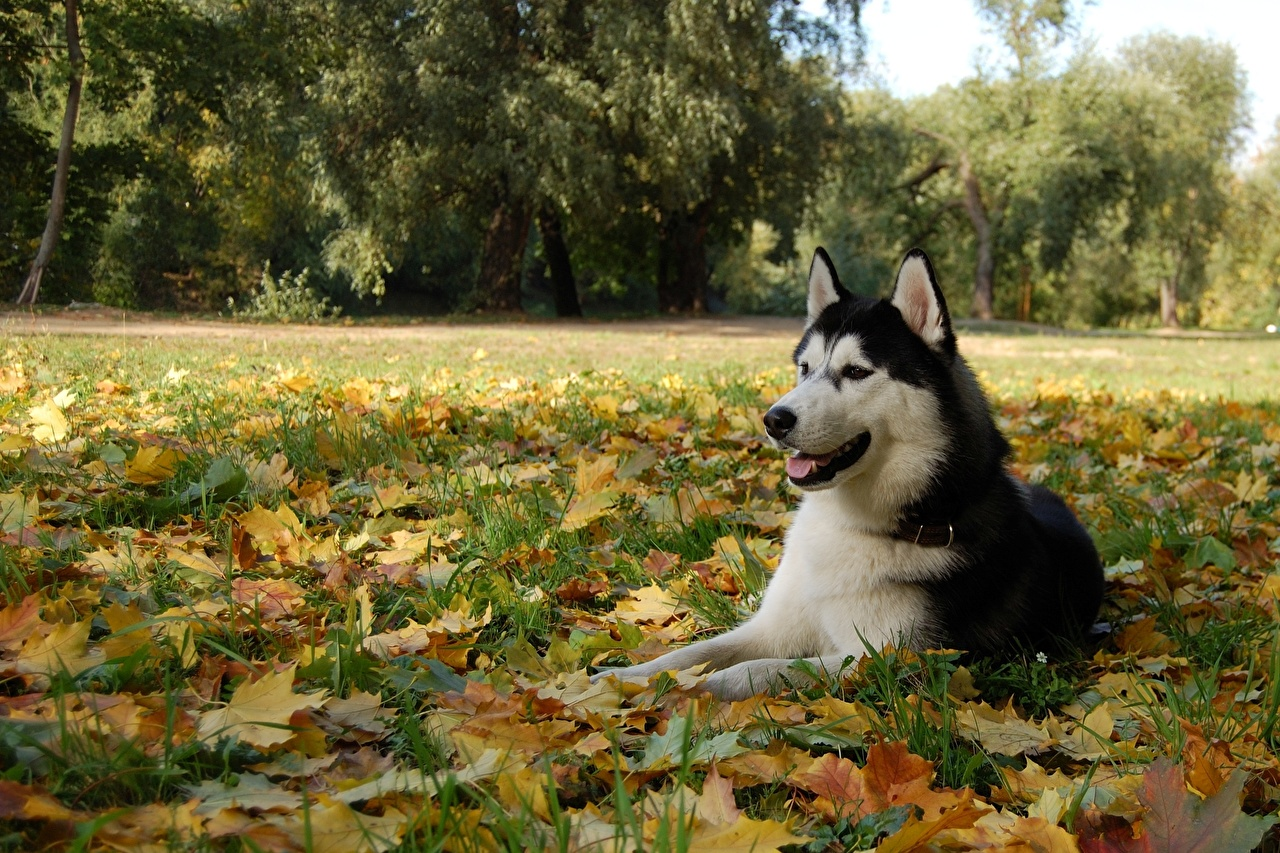husky: (580, 226, 1051, 757)
